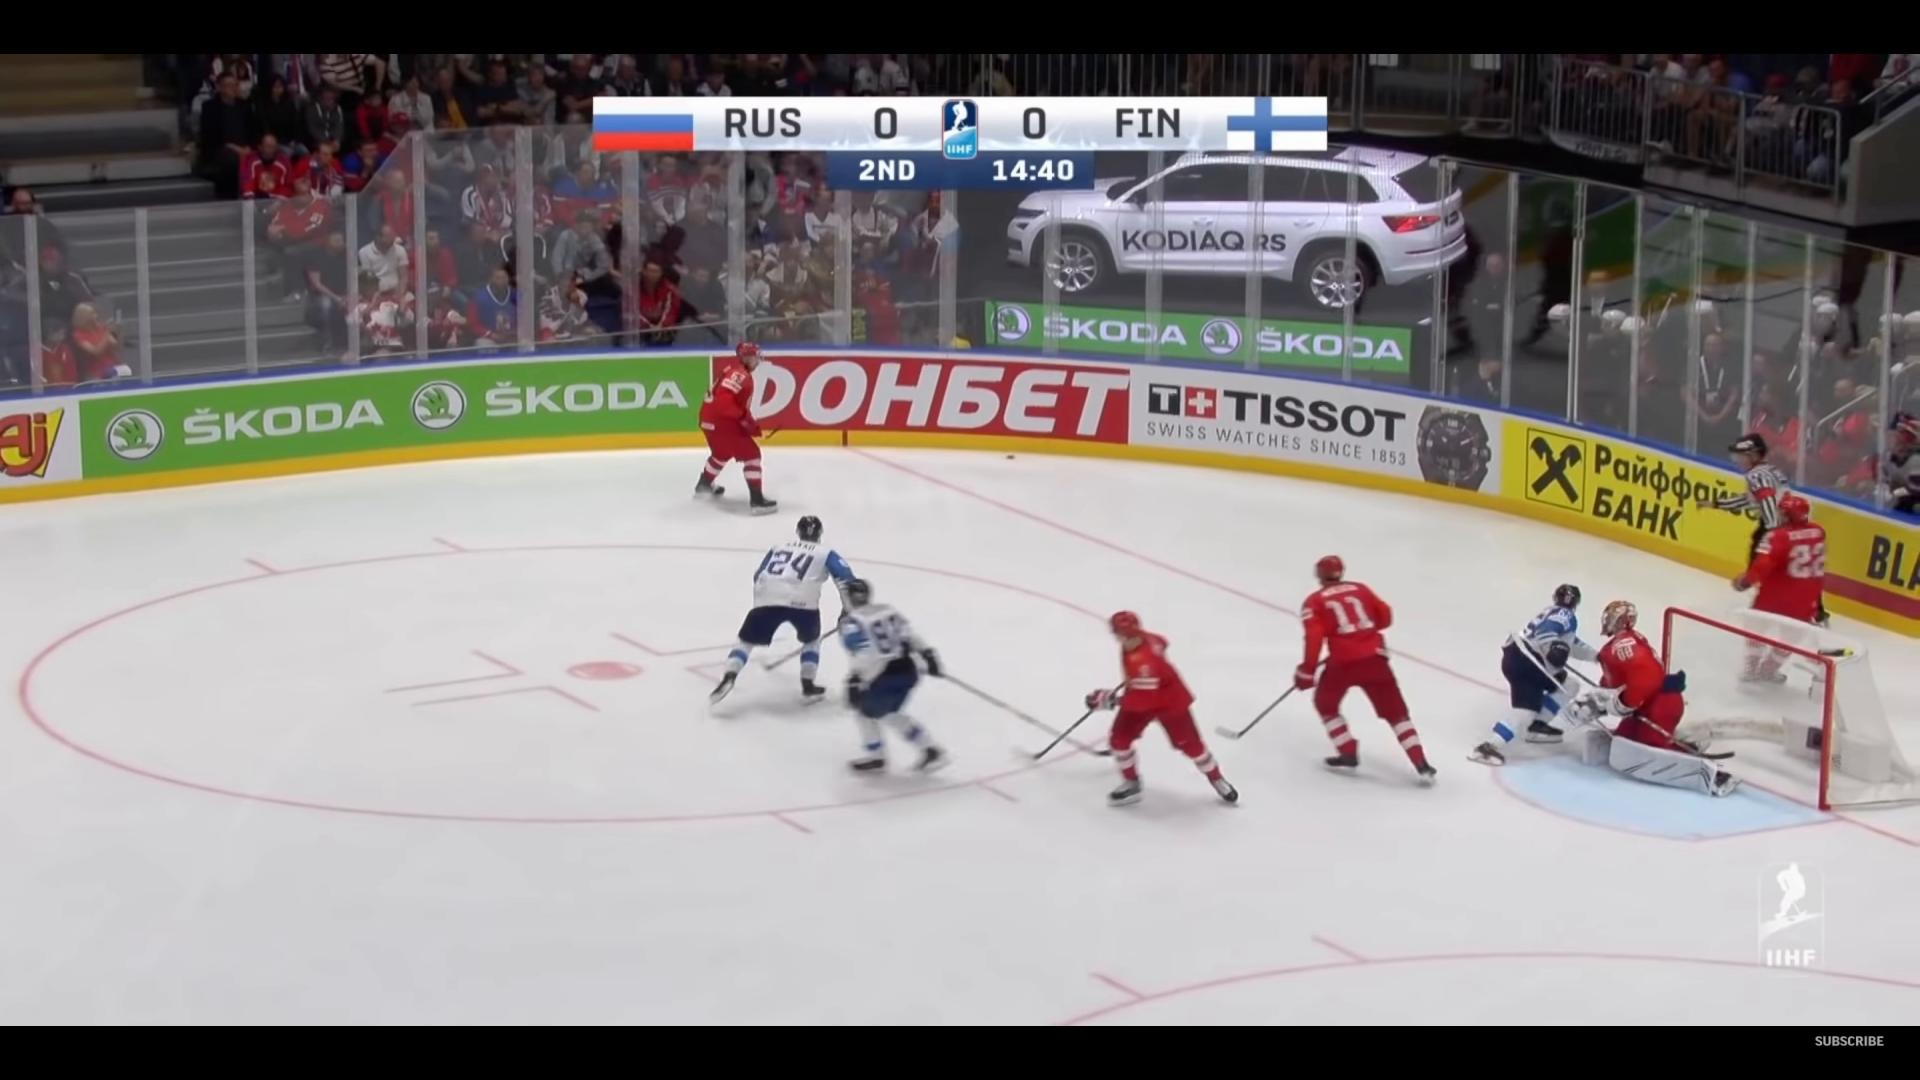puck: (1005, 454, 1014, 460)
